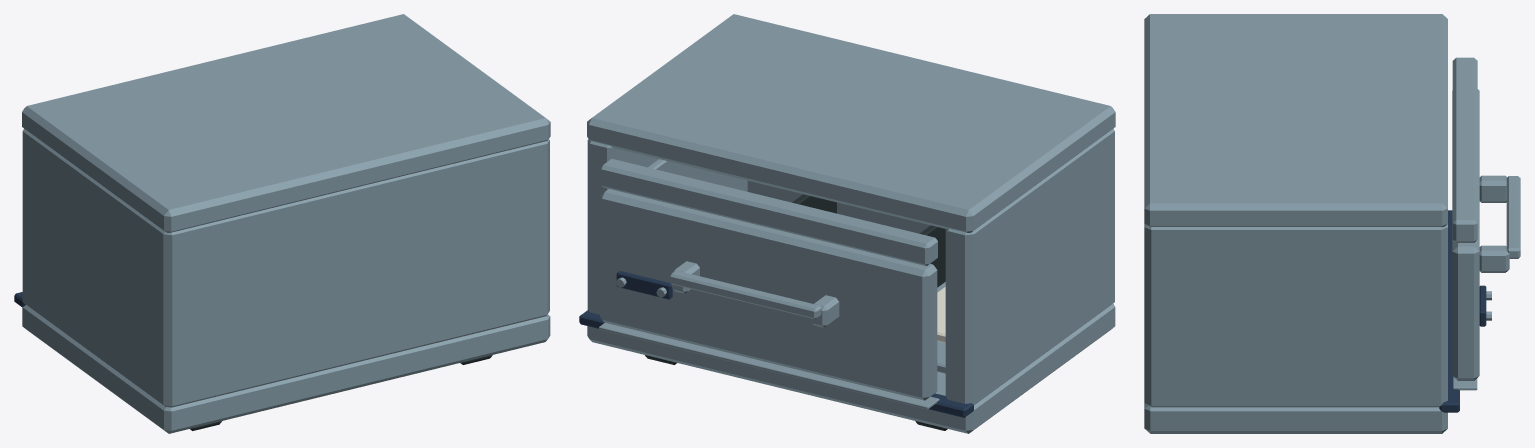
The model's file is undercounter_service_drawer.glb.
3 views of the same model, side by side, from view 1: azimuth 30°, elevation 25°; view 2: azimuth 150°, elevation 25°; view 3: azimuth 270°, elevation 25° (orthographic). The views are drawn at different scales.
Parts seen in each view (by area): view 1: body_roof, body_back_wall, body_side_wall (×2), body_floor; view 2: body_roof, moving_drawer_face, body_side_wall (×2), fixed_upper_fascia, body_floor, fixed_lower_fascia, moving_pull_grip, moving_tray_back, moving_tray_side, fixed_bottom_band, moving_drawer_id_plate, moving_tray_divider (+1 smaller); view 3: body_roof, body_side_wall, body_floor, fixed_upper_fascia, moving_drawer_face, body_back_wall, moving_pull_mount (×2), fixed_bottom_band, moving_pull_grip.
Part boxes in pixels (left/top/right/bottom): body_roof: left=22, top=14, right=550, bottom=232; body_back_wall: left=153, top=141, right=547, bottom=406; body_side_wall (×2): left=22, top=128, right=549, bottom=407; body_floor: left=22, top=305, right=550, bottom=433; body_roof: left=587, top=14, right=1115, bottom=232; moving_drawer_face: left=600, top=189, right=937, bottom=400; body_side_wall (×2): left=587, top=128, right=1114, bottom=404; fixed_upper_fascia: left=600, top=159, right=937, bottom=266; body_floor: left=587, top=304, right=1115, bottom=433; fixed_lower_fascia: left=599, top=322, right=939, bottom=409; moving_pull_grip: left=669, top=270, right=821, bottom=318; moving_tray_back: left=747, top=181, right=930, bottom=233; moving_tray_side: left=648, top=159, right=747, bottom=191; fixed_bottom_band: left=579, top=310, right=973, bottom=417; moving_drawer_id_plate: left=616, top=271, right=672, bottom=299; moving_tray_divider: left=919, top=225, right=945, bottom=287; body_roof: left=1144, top=14, right=1447, bottom=227; body_side_wall: left=1144, top=224, right=1447, bottom=407; body_floor: left=1144, top=403, right=1447, bottom=433; fixed_upper_fascia: left=1452, top=57, right=1477, bottom=242; moving_drawer_face: left=1452, top=89, right=1479, bottom=380; body_back_wall: left=1144, top=224, right=1171, bottom=406; moving_pull_mount (×2): left=1479, top=175, right=1509, bottom=272; fixed_bottom_band: left=1439, top=210, right=1459, bottom=412; moving_pull_grip: left=1506, top=176, right=1520, bottom=258.
Size of the model in its own units: 1.15 by 0.69 by 0.9415.
